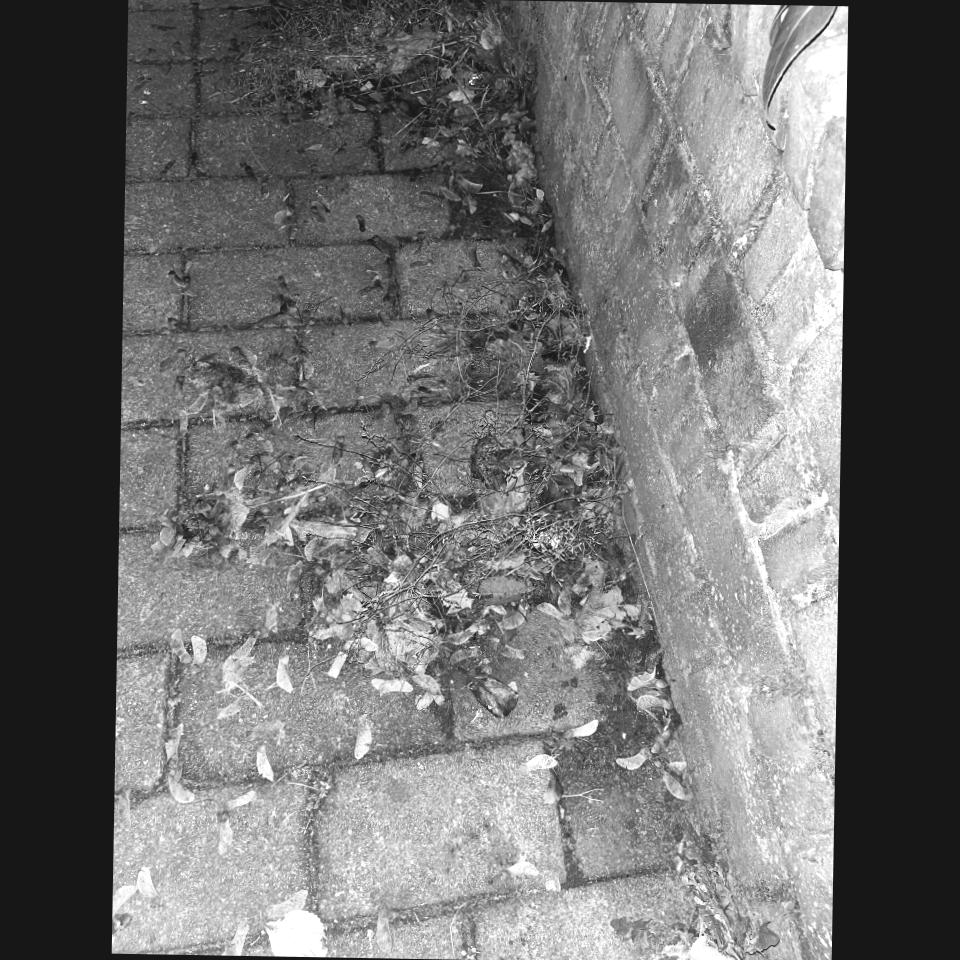weed: (257, 2, 542, 177), (615, 823, 785, 960)
